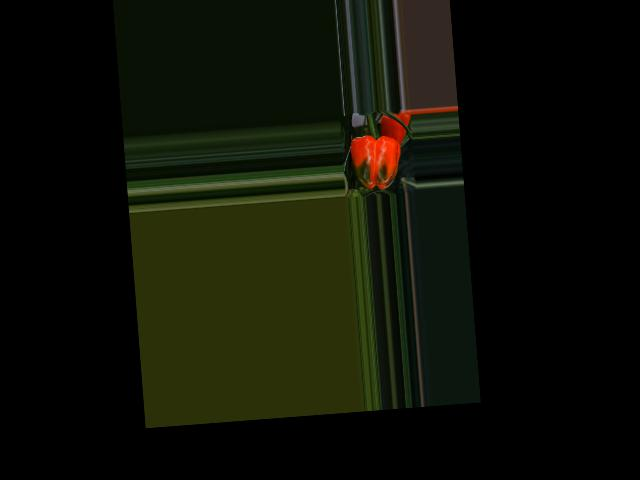bell_pepper: (342, 126, 406, 196)
